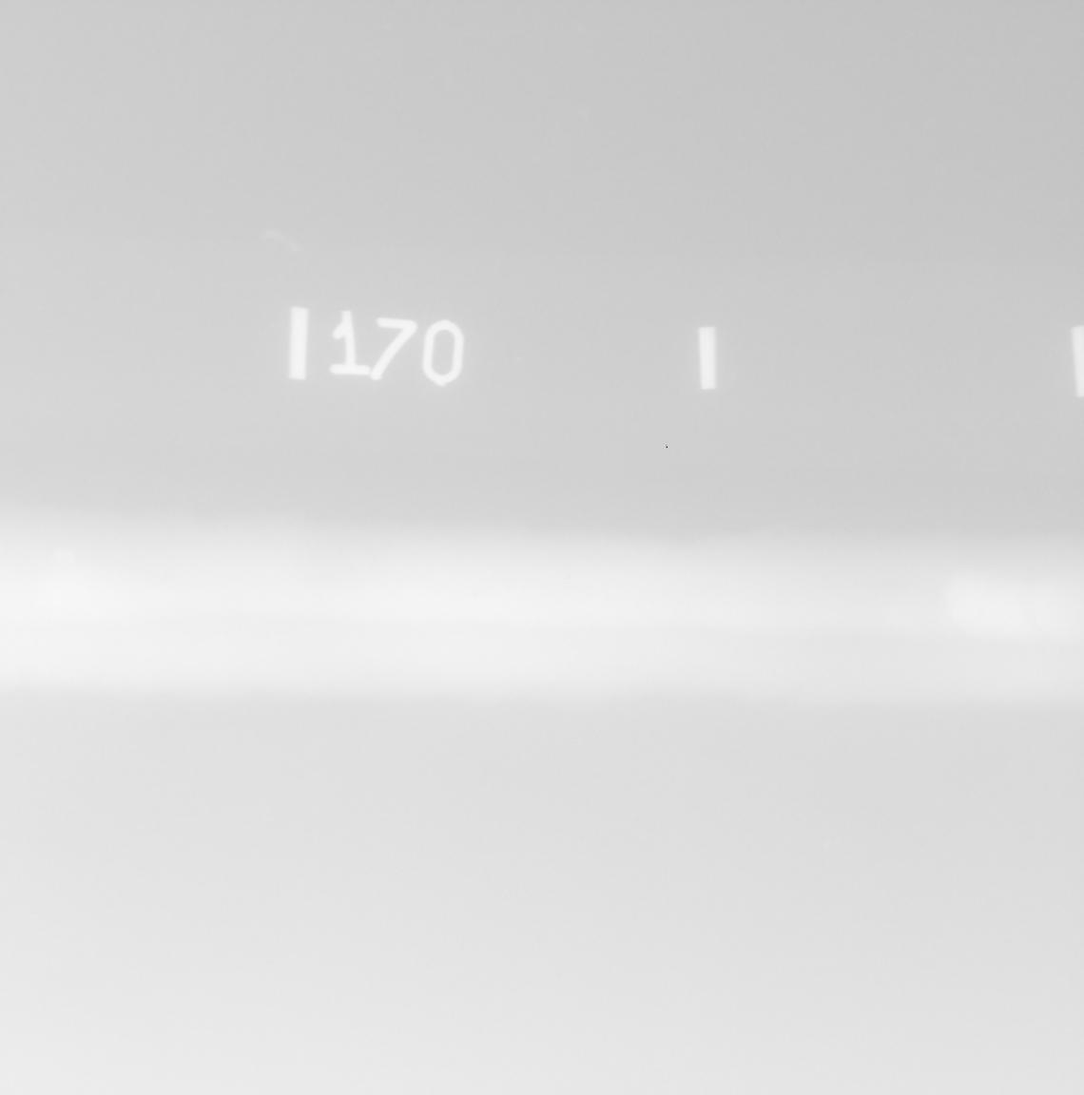Pore/Porosity: (472, 592, 481, 598), (566, 575, 572, 580)
